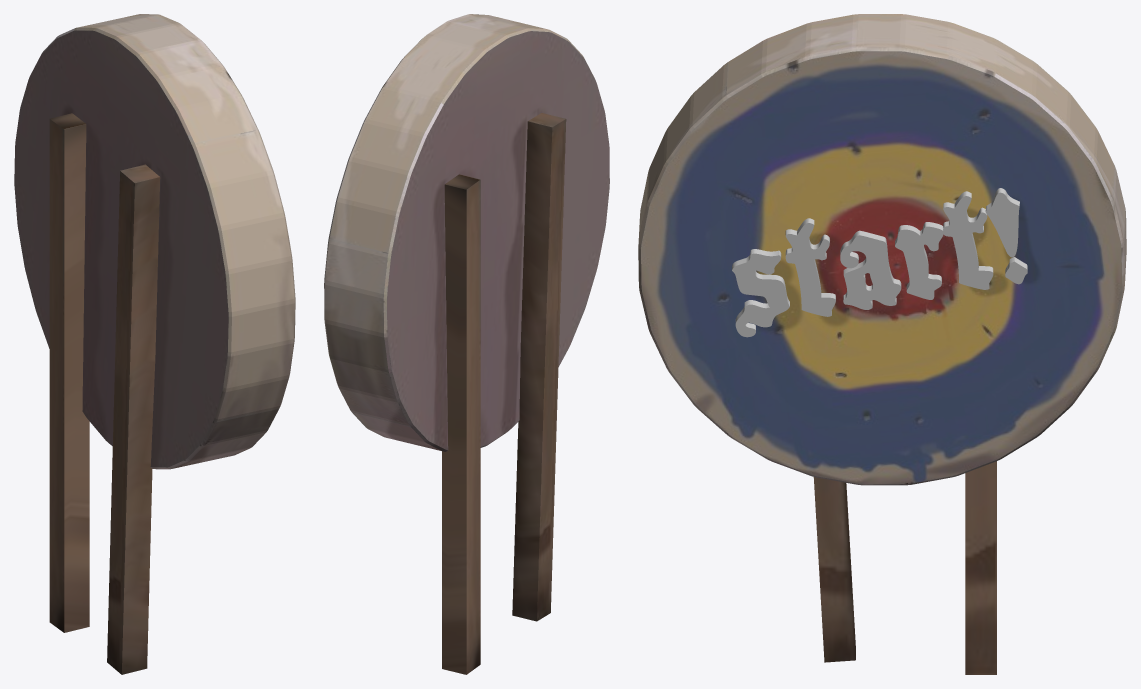
The model's file is shortbow-button.fbx.
The picture shows the model from 3 angles, left to right: view 1: azimuth 30°, elevation 25°; view 2: azimuth 150°, elevation 25°; view 3: azimuth 270°, elevation 25°; orthographic projection. The views are drawn at different scales.
Visible parts, largest first — view 1: Cylinder; view 2: Cylinder; view 3: Cylinder.
Part boxes in pixels (x1,y1,x2,y2): Cylinder: [14, 14, 295, 674]; Cylinder: [324, 14, 609, 674]; Cylinder: [638, 14, 1126, 674].
Size of the model in its own units: 71.92 by 332 by 222.
2 materials, 1 textured.
